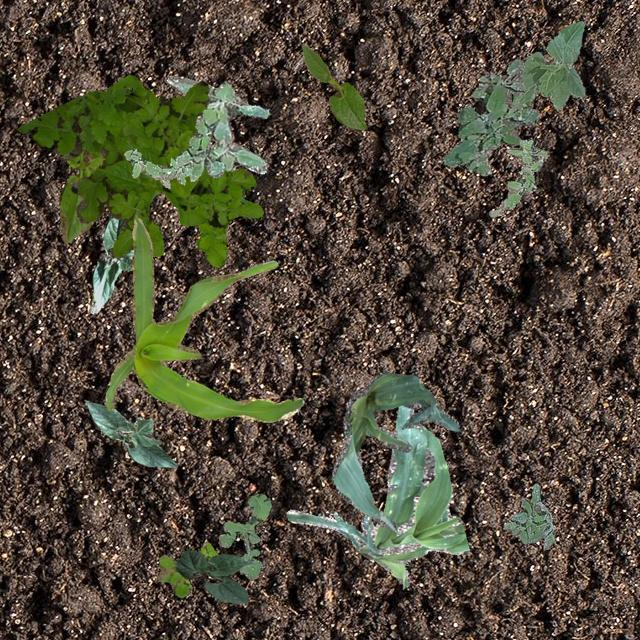crop: (105, 215, 302, 422), (286, 404, 468, 588), (331, 372, 458, 532), (509, 20, 584, 109), (85, 399, 176, 466), (302, 44, 366, 128), (88, 215, 134, 312), (58, 148, 104, 242), (174, 550, 253, 602)
weed: (16, 74, 262, 266), (442, 59, 538, 174), (165, 74, 268, 172), (488, 138, 546, 216), (218, 492, 270, 578), (502, 482, 554, 548), (156, 540, 216, 596), (174, 116, 223, 180), (124, 148, 190, 186)
